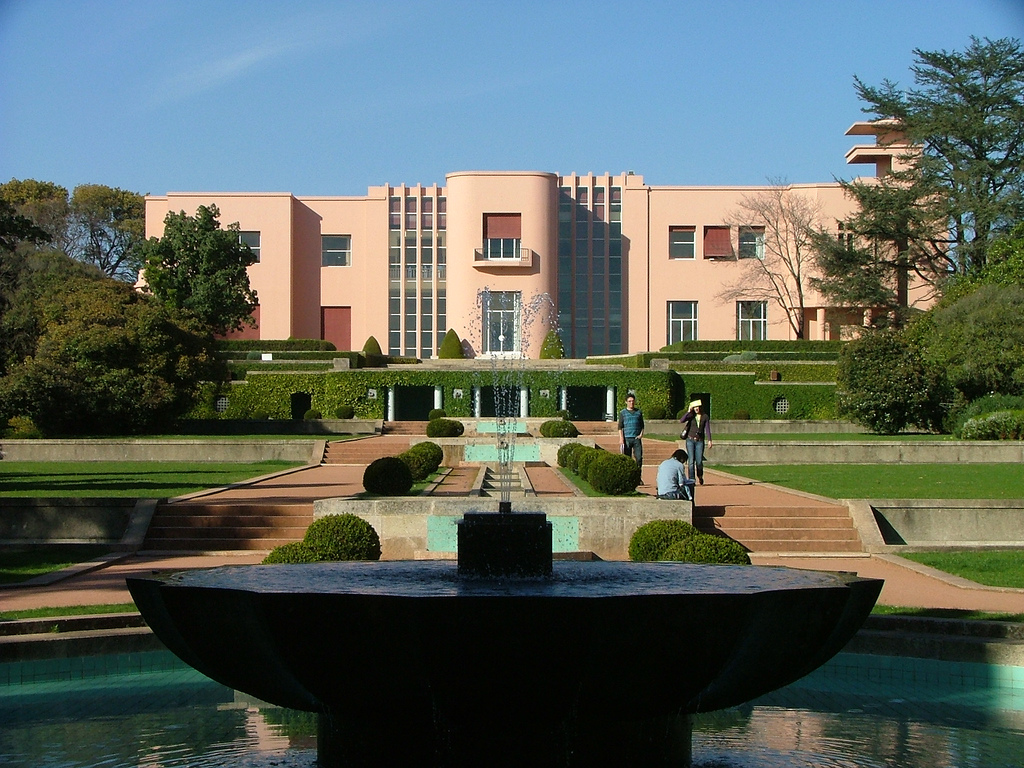serralves: (143, 106, 948, 359)
